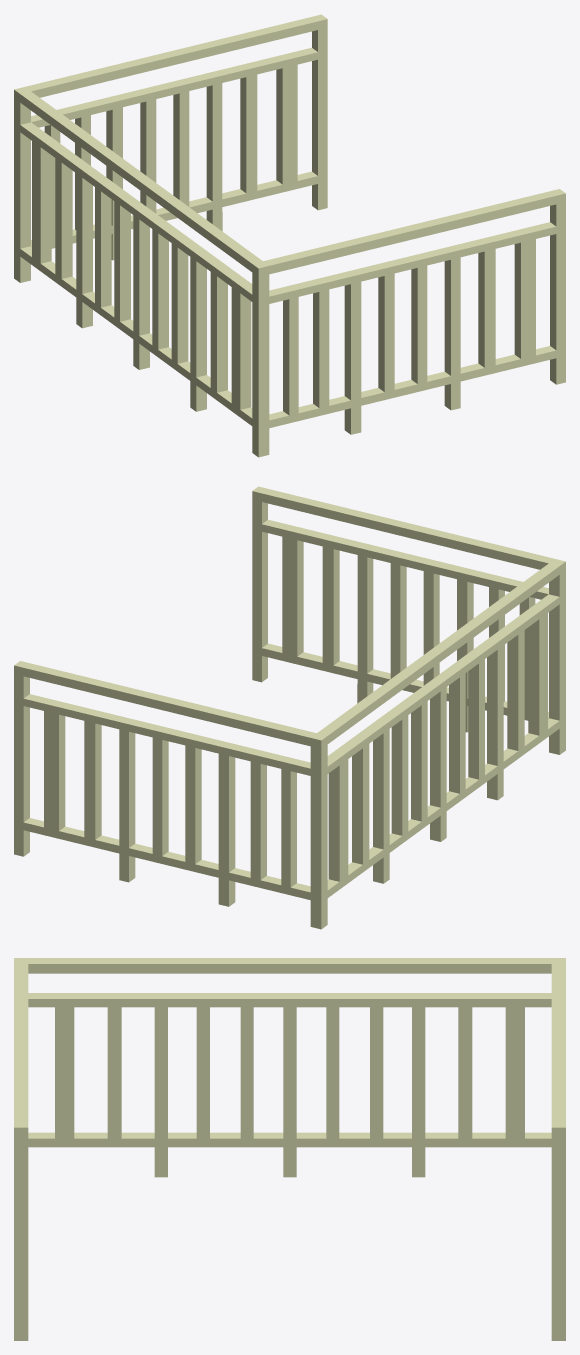
File: m_fenceBalcony.fbx
3 views of the same model, one above another, from view 1: azimuth 30°, elevation 25°; view 2: azimuth 150°, elevation 25°; view 3: azimuth 270°, elevation 25° (orthographic). The views are drawn at different scales.
Parts seen in each view (by area): view 1: pCube349; view 2: pCube349; view 3: pCube349.
Boxes of the visible parts, x1,y1,x2,y2 form: pCube349: (14, 14, 565, 457); pCube349: (14, 486, 565, 929); pCube349: (14, 958, 565, 1340).
Bounding box in the file's own units: 598 × 351 × 824.
